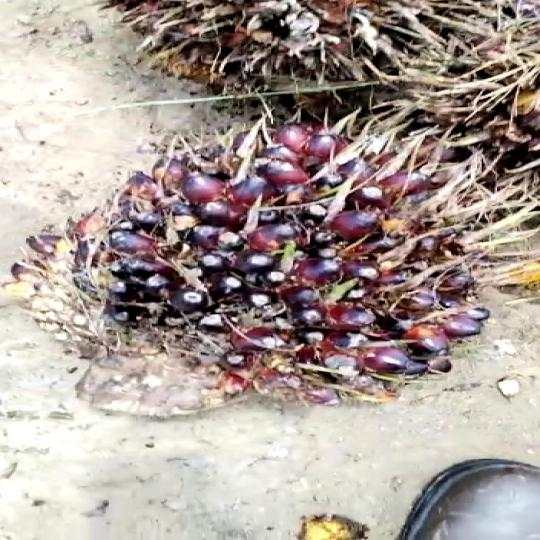masak: (38, 110, 521, 425)
